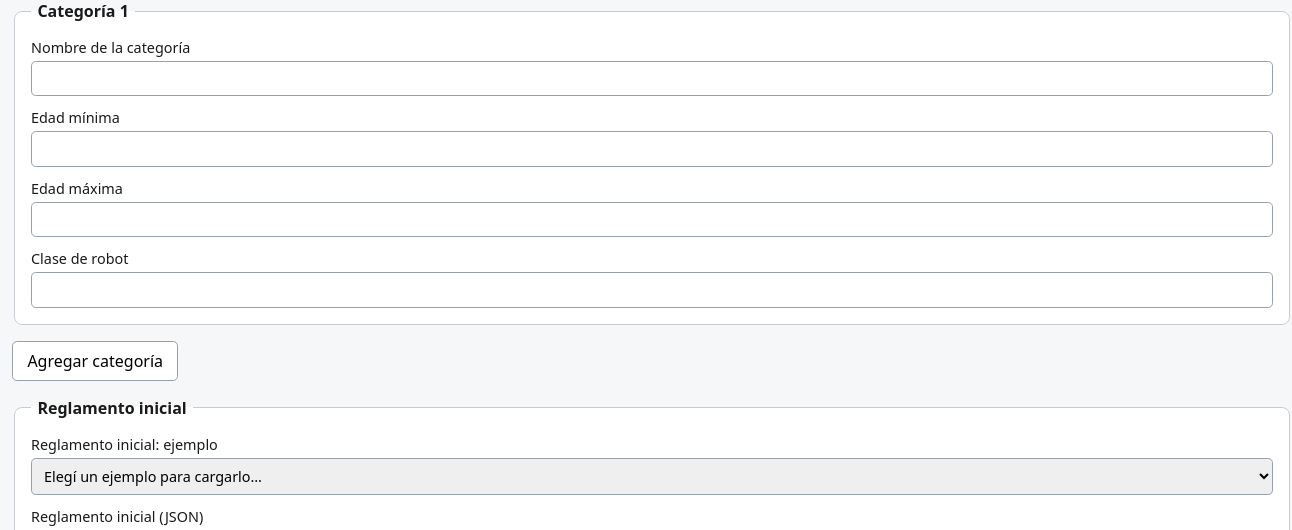
Test: EventPage › adds and removes categories
(page scrolled)
Expected: the button "Quitar categoría" is not shown
Click the button "Agregar categoría" at point(95, 361), box [12,341,178,381]
(page scrolled)
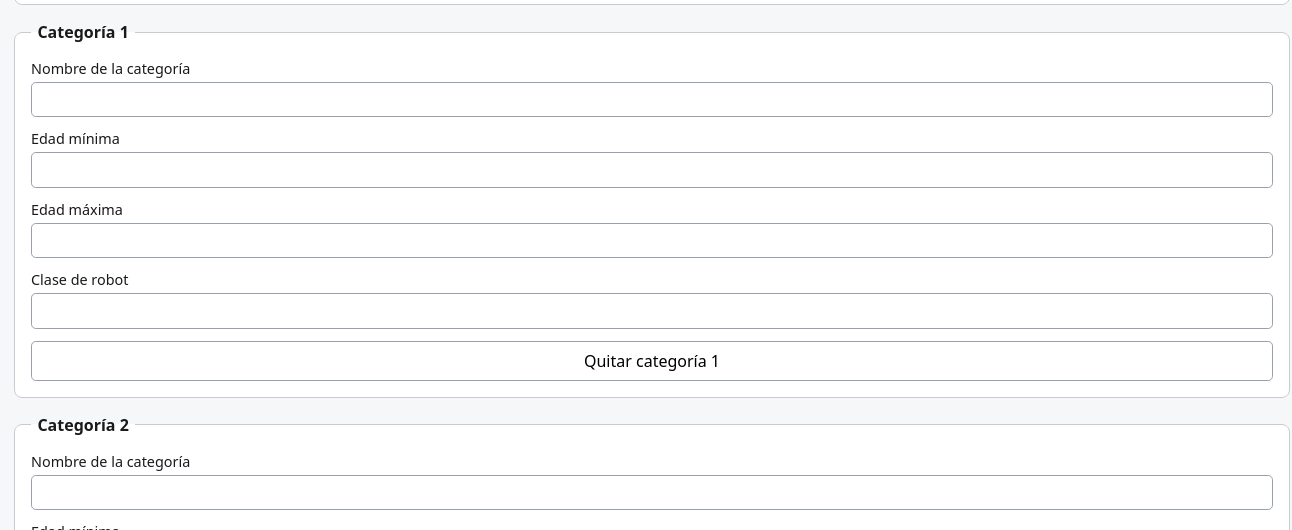
Click the button "Quitar categoría 1" at point(652, 361), box [31,341,1273,381]
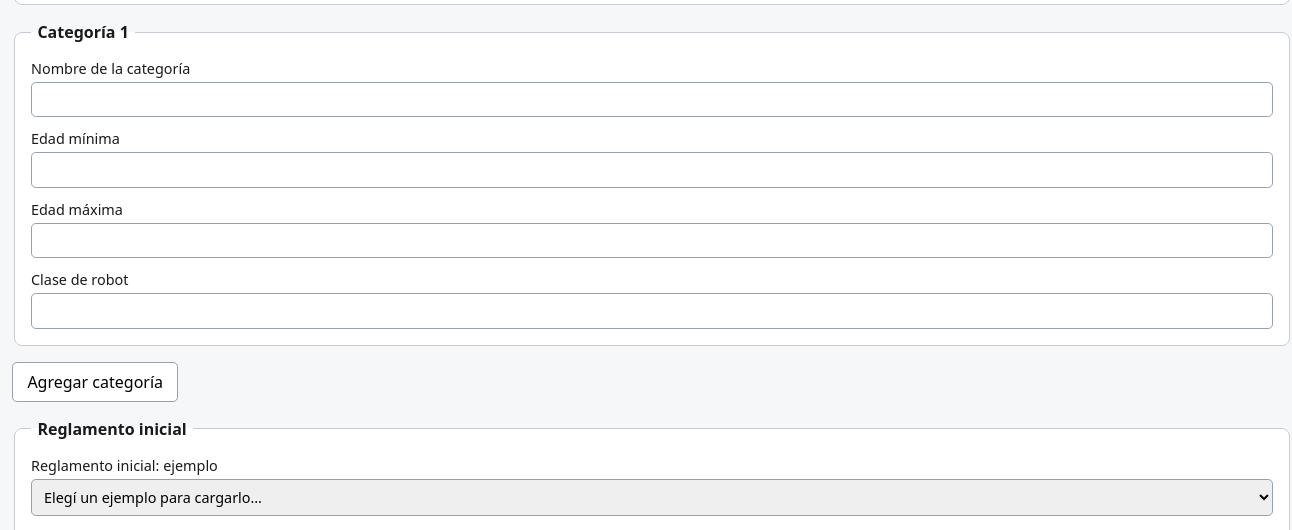
Now the text "Categoría 2" is gone
